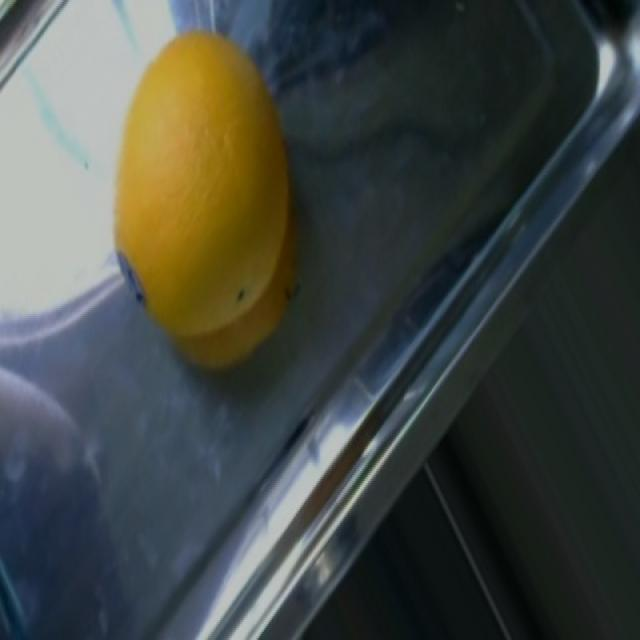Fruit: (100, 22, 311, 387)
